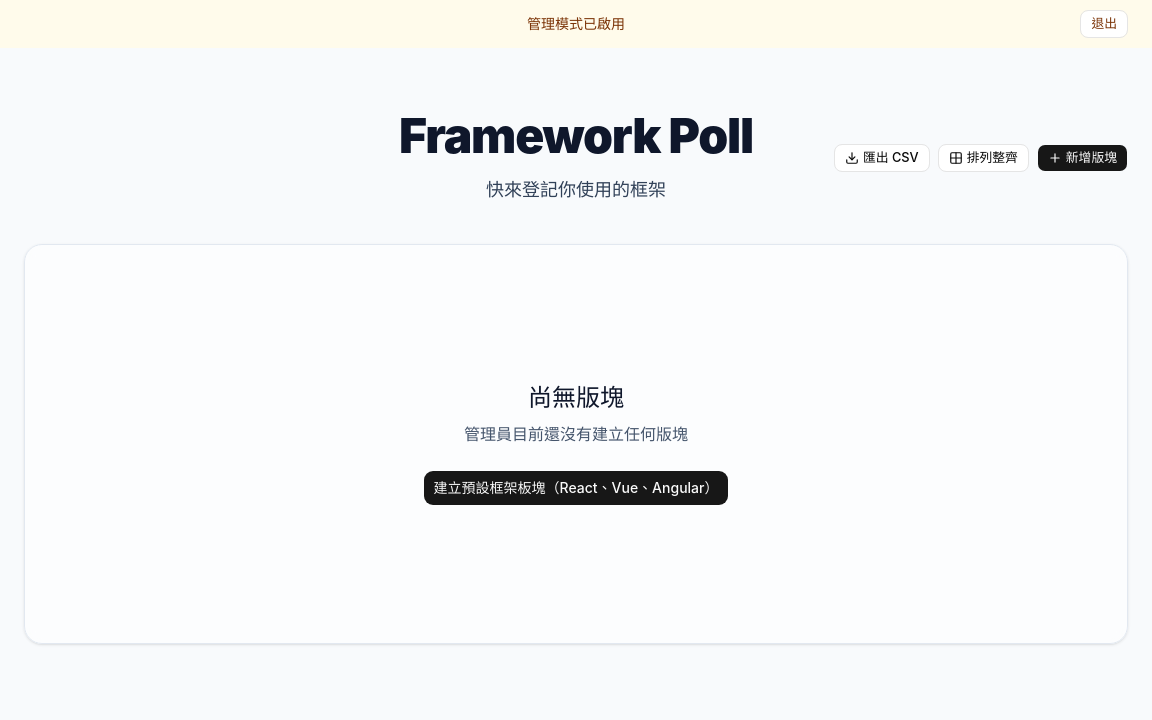
Test: App - Admin Mode UI Interactions › Admin Mode Toggle Interactions › opens AddCategoryDialog when clicking add category button in admin mode
Click the button "新增版塊" at (1082, 158), box [1037,144,1128,172]
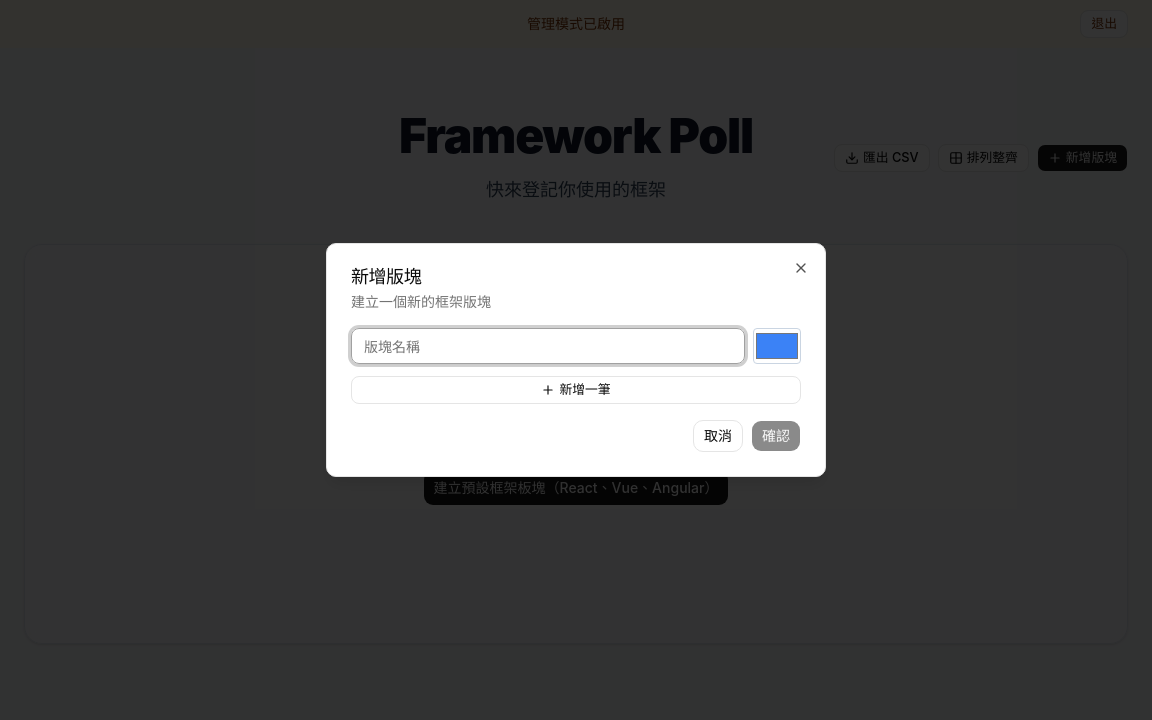
Now the dialog is shown, box [326,243,826,477]
